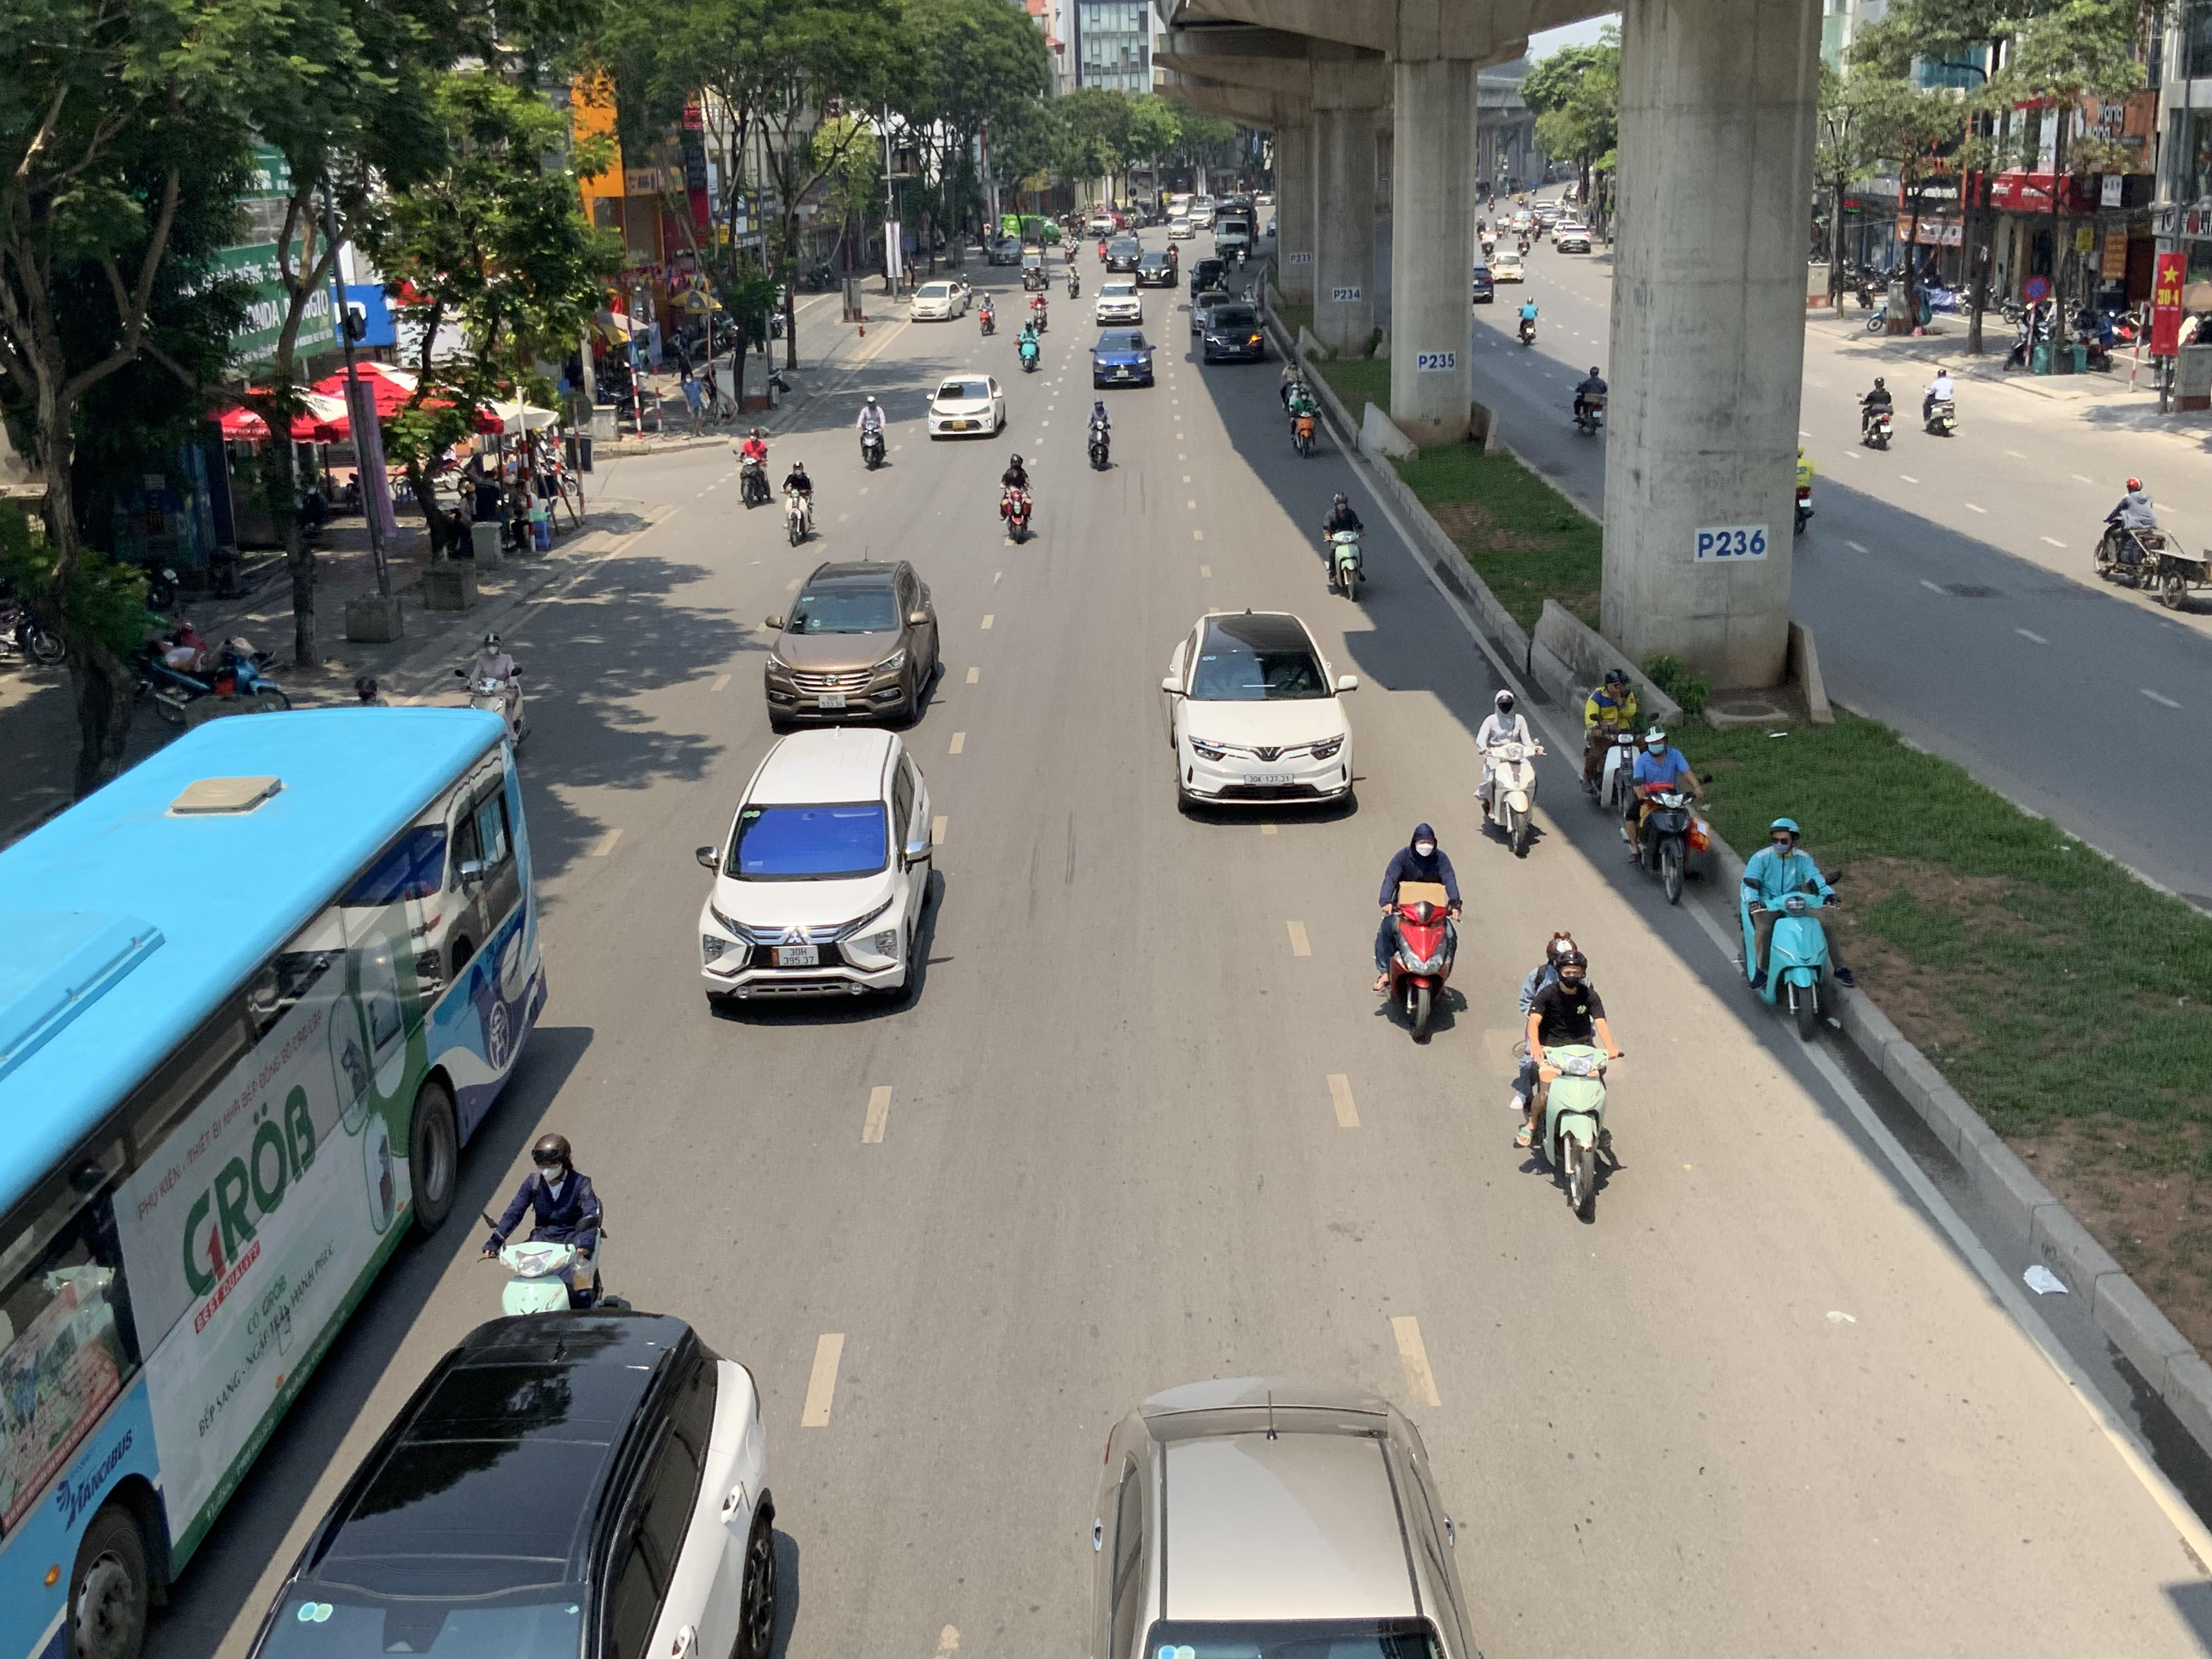BSD: (1244, 774, 1294, 784)
BSV: (775, 945, 817, 965), (819, 694, 846, 708)
bus: (0, 694, 554, 1659)
car: (693, 727, 948, 1012), (1160, 610, 1360, 819), (763, 558, 944, 734), (927, 373, 1007, 439), (1197, 301, 1268, 362), (1090, 326, 1155, 389), (909, 277, 972, 322), (1092, 279, 1146, 326), (1190, 291, 1231, 336), (1134, 251, 1177, 288), (1188, 258, 1228, 296), (1104, 237, 1143, 272)
motorbike: (1514, 934, 1625, 1225), (1740, 816, 1850, 1040), (482, 1133, 608, 1321), (1374, 823, 1465, 1044), (1622, 718, 1709, 906), (143, 620, 293, 723), (1474, 687, 1545, 859), (2095, 476, 2191, 603), (1580, 667, 1644, 816), (463, 631, 528, 748), (1320, 491, 1367, 599), (998, 451, 1035, 544), (780, 458, 819, 544), (1284, 373, 1320, 457), (1858, 371, 1897, 450), (735, 427, 772, 507), (1921, 361, 1958, 437), (1571, 361, 1608, 436), (857, 394, 890, 469), (1087, 397, 1113, 469), (1015, 317, 1043, 373), (1515, 295, 1540, 347), (975, 291, 998, 336), (1029, 293, 1052, 333), (1064, 263, 1082, 300)
truck: (1212, 204, 1259, 261)
